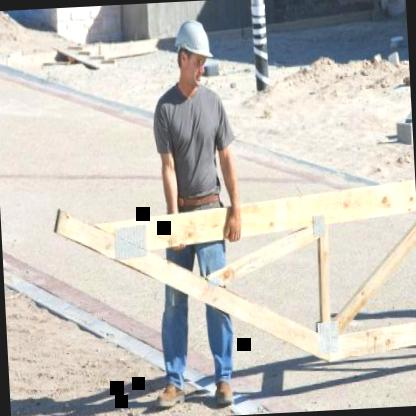helmet: (170, 12, 214, 96)
